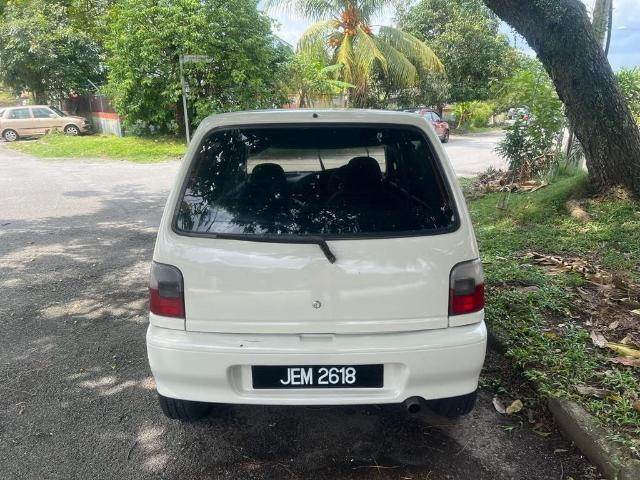License_Plate: (263, 367, 375, 391)
car: (143, 103, 498, 420)
